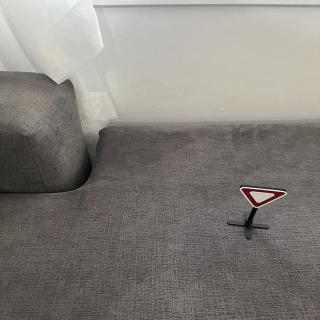sign_yield: (241, 186, 290, 211)
